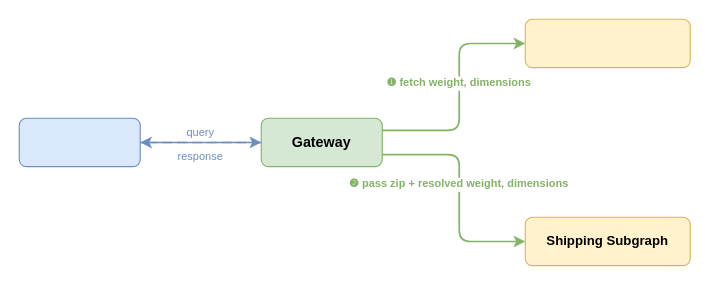
This 710x285 diagram has some shape labels left out. Each missing label, with the centre of its shape:
Client: the point at 79,142
Products Subgraph: the point at 607,43
